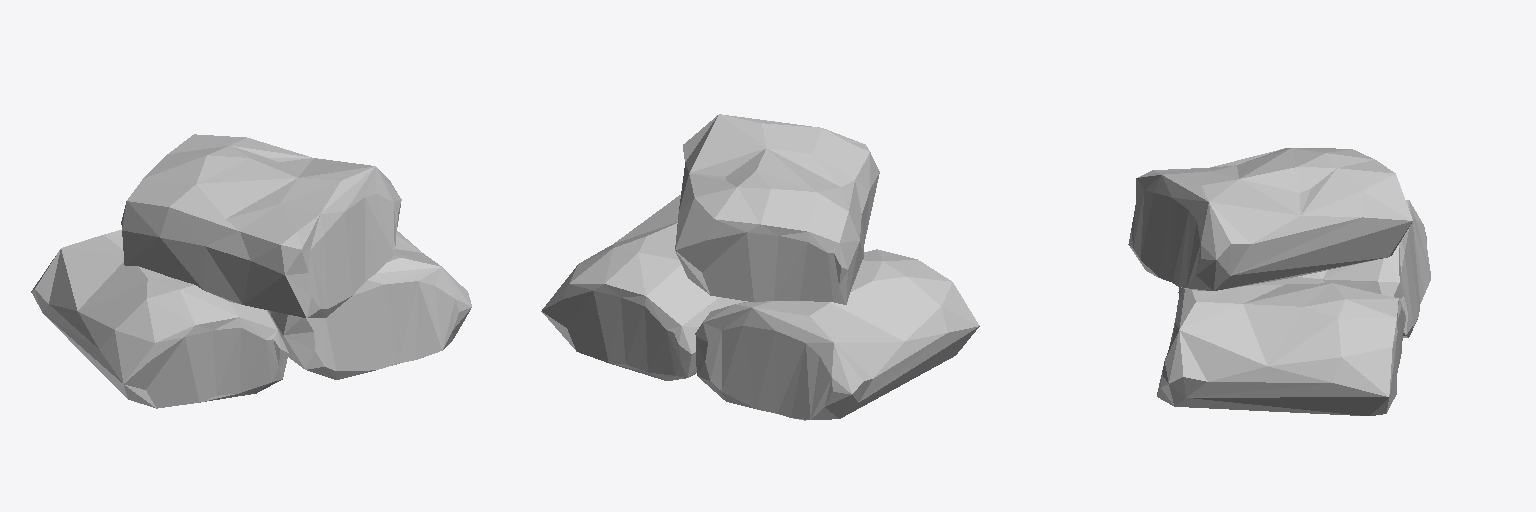
The model's file is Blanket_rolled_group.obj.
3 views of the same model, side by side, from view 1: azimuth 30°, elevation 25°; view 2: azimuth 150°, elevation 25°; view 3: azimuth 270°, elevation 25° (orthographic).
Parts seen in each view (by area): view 1: Blankets_Rolled_LOD0_Plane.001; view 2: Blankets_Rolled_LOD0_Plane.001; view 3: Blankets_Rolled_LOD0_Plane.001.
Part boxes in pixels (x1,y1,x2,y2): Blankets_Rolled_LOD0_Plane.001: (31,134,471,408); Blankets_Rolled_LOD0_Plane.001: (541,114,979,420); Blankets_Rolled_LOD0_Plane.001: (1128,148,1430,415).
Size of the model in its own units: 1.1 by 0.5814 by 0.8383.